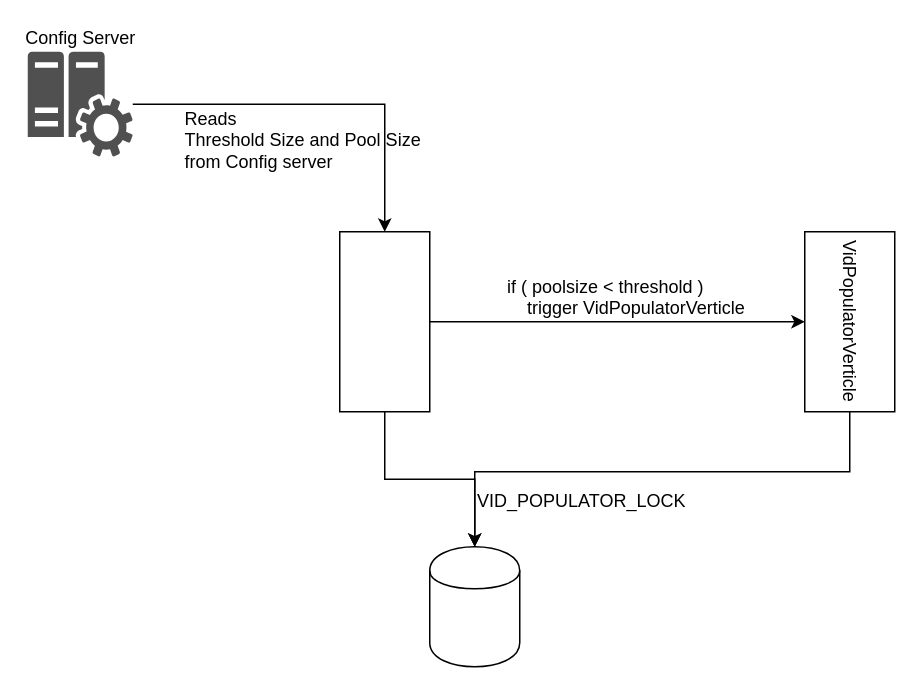
This 921x693 diagram has some shape labels left out. Here are the shapes that lost their labels. From the top down, the centre of each, then its label:
At point 384,321: "VidPoolCheckerVerticle".
At point 474,606: "UIN Pool".
